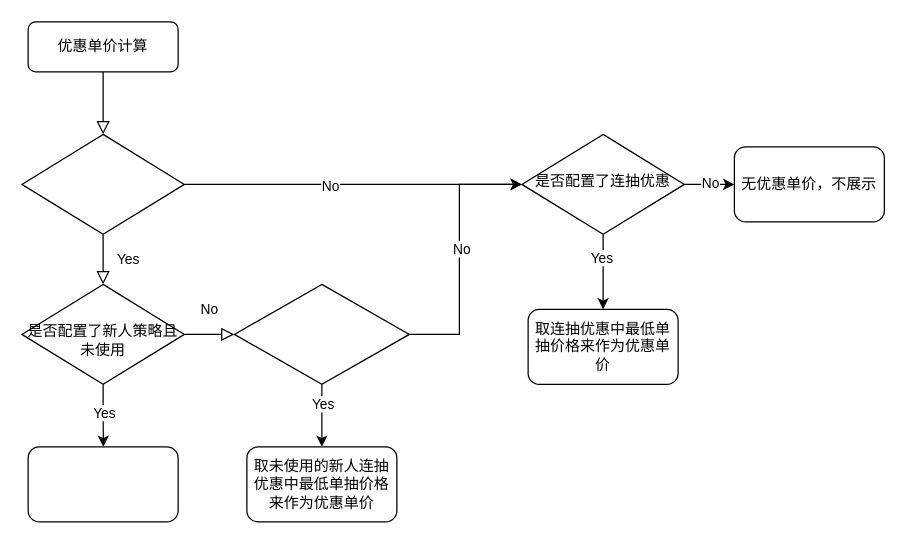
The diagram is 906 pixels wide and 544 high, and some of its shapes have lost their labels. The box of each missing label's shape, as (x1, y1, x2, y2) in pixels:
取新人策略来计算单抽的优惠价格: (27, 446, 178, 522)
是否新人: (21, 133, 184, 234)
是否配置了新人连抽优惠且有未使用的: (233, 283, 409, 384)
